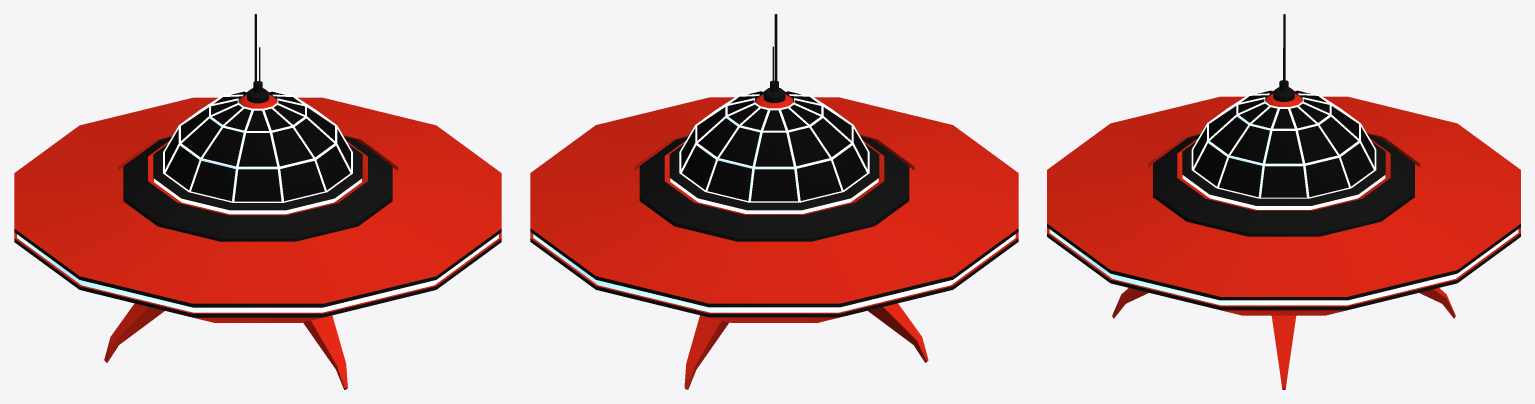
The model's file is Alien1.glb.
The picture shows the model from 3 angles, left to right: view 1: azimuth 30°, elevation 25°; view 2: azimuth 150°, elevation 25°; view 3: azimuth 270°, elevation 25°; orthographic projection. The views are drawn at different scales.
Visible parts, largest first — view 1: Body, Chassis, Dome, Frame, Light; view 2: Body, Chassis, Dome, Frame, Light; view 3: Body, Chassis, Dome, Frame, Light.
Part boxes in pixels (<box>): Body: <box>14,94,501,389</box>; Chassis: <box>14,14,501,317</box>; Dome: <box>165,91,350,201</box>; Frame: <box>163,89,352,202</box>; Light: <box>17,179,498,312</box>; Body: <box>530,94,1018,389</box>; Chassis: <box>530,14,1018,317</box>; Dome: <box>681,91,867,201</box>; Frame: <box>679,89,869,202</box>; Light: <box>533,178,1015,312</box>; Body: <box>1047,93,1520,389</box>; Chassis: <box>1047,14,1520,310</box>; Dome: <box>1193,90,1374,198</box>; Frame: <box>1191,88,1376,198</box>; Light: <box>1049,175,1518,305</box>.
Size of the model in its own units: 0.1793 by 0.1264 by 0.1793.
